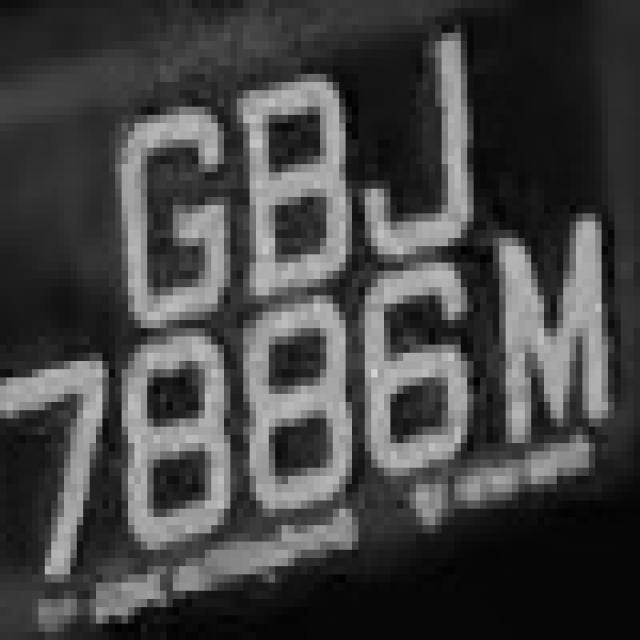6: (326, 254, 474, 500)
7: (0, 345, 109, 599)
8: (237, 279, 365, 542), (109, 312, 237, 574)
B: (205, 66, 358, 312)
G: (102, 74, 224, 336)
J: (352, 16, 493, 262)
M: (487, 197, 628, 492)
